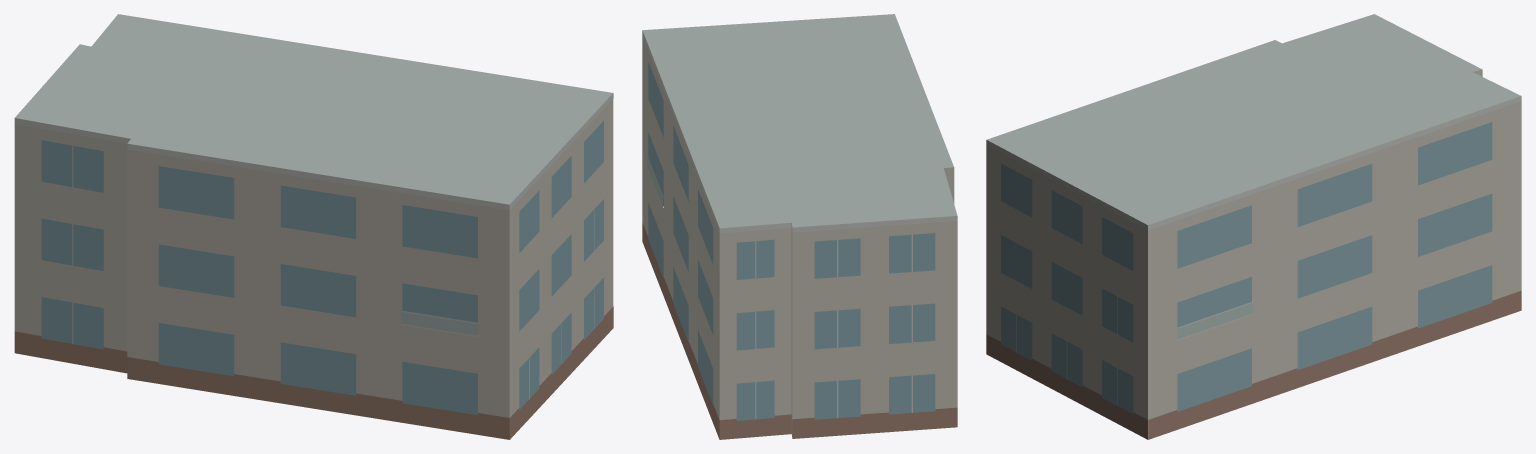
File: survey-upis-32707232.glb
The picture shows the model from 3 angles, left to right: view 1: azimuth 30°, elevation 25°; view 2: azimuth 150°, elevation 25°; view 3: azimuth 270°, elevation 25°; orthographic projection. The views are drawn at different scales.
Parts seen in each view (by area): view 1: survey-upis-32707232.tmp; view 2: survey-upis-32707232.tmp; view 3: survey-upis-32707232.tmp.
Boxes of the visible parts, x1,y1,x2,y2 form: survey-upis-32707232.tmp: (14, 14, 613, 439); survey-upis-32707232.tmp: (642, 14, 957, 439); survey-upis-32707232.tmp: (986, 14, 1521, 439).
Size of the model in its own units: 21.34 by 10.1 by 22.83.
